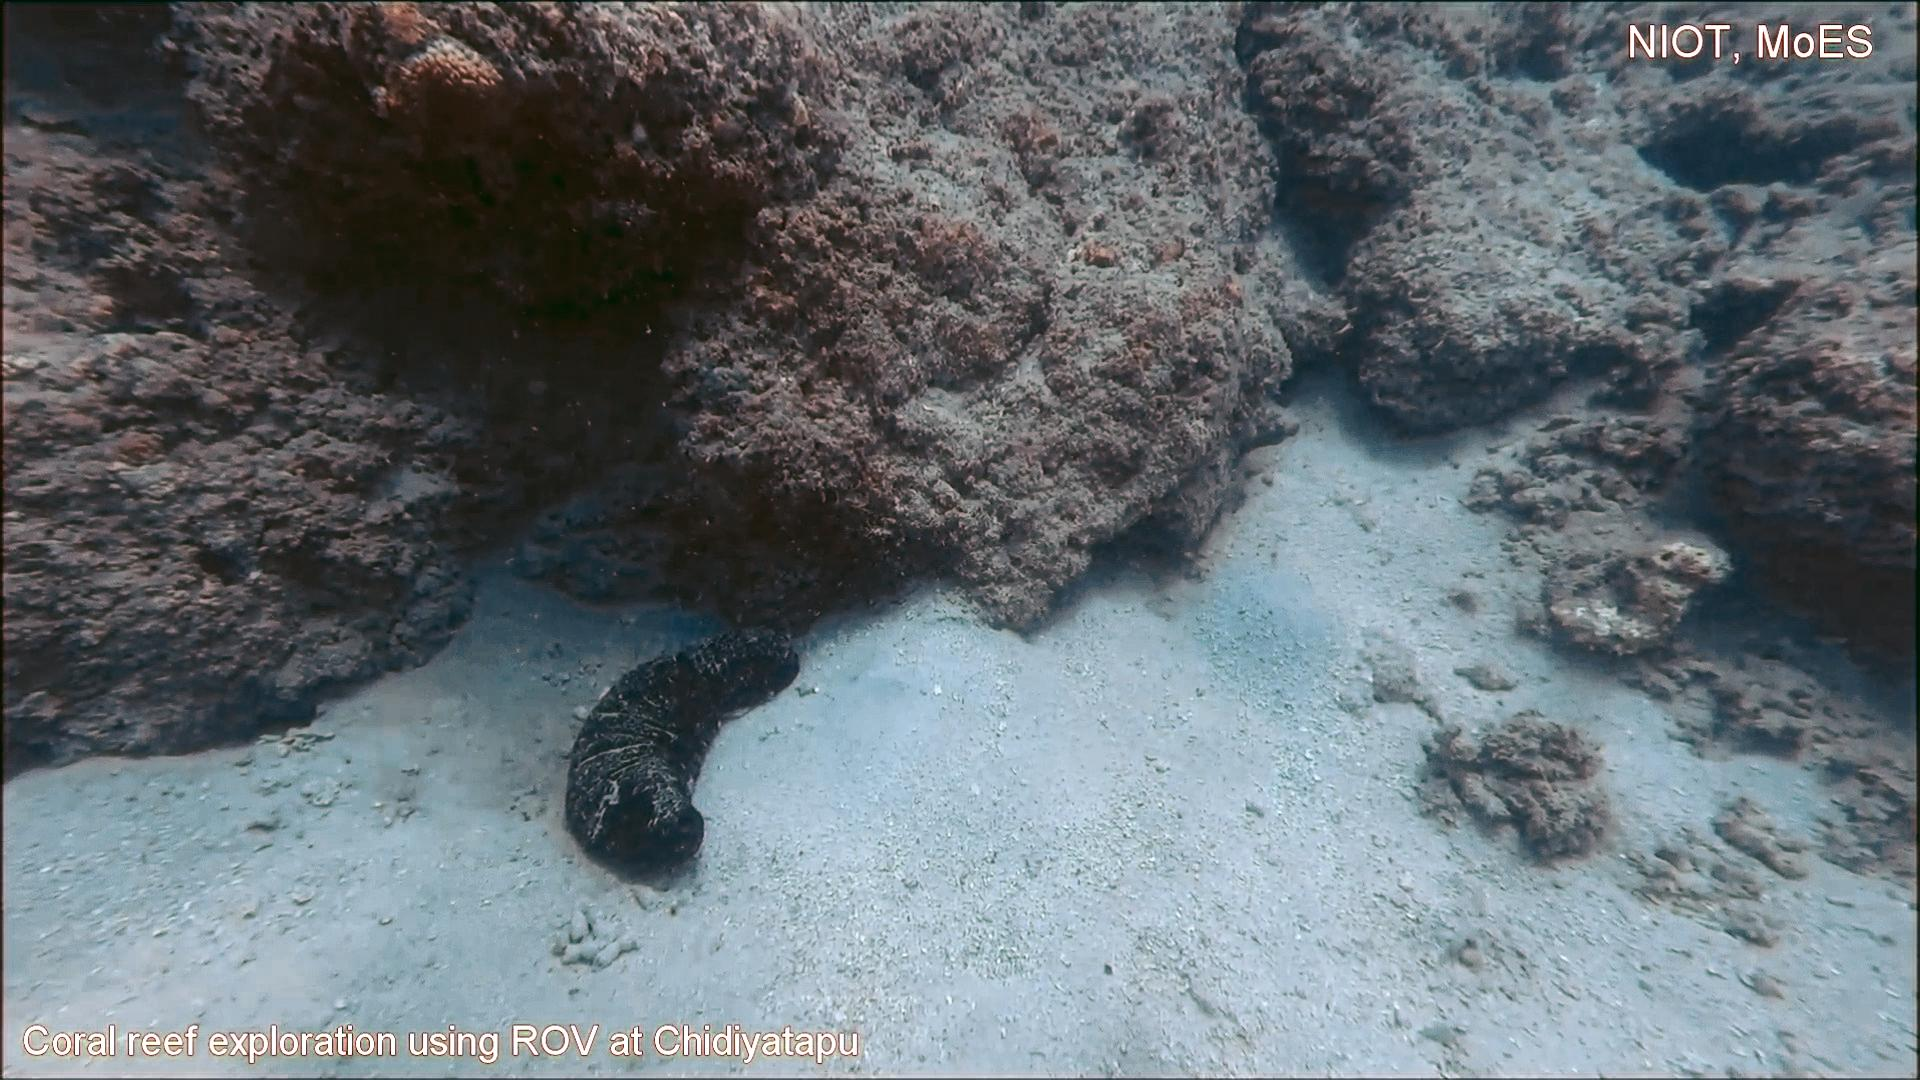Montastraea: (367, 20, 520, 177)
